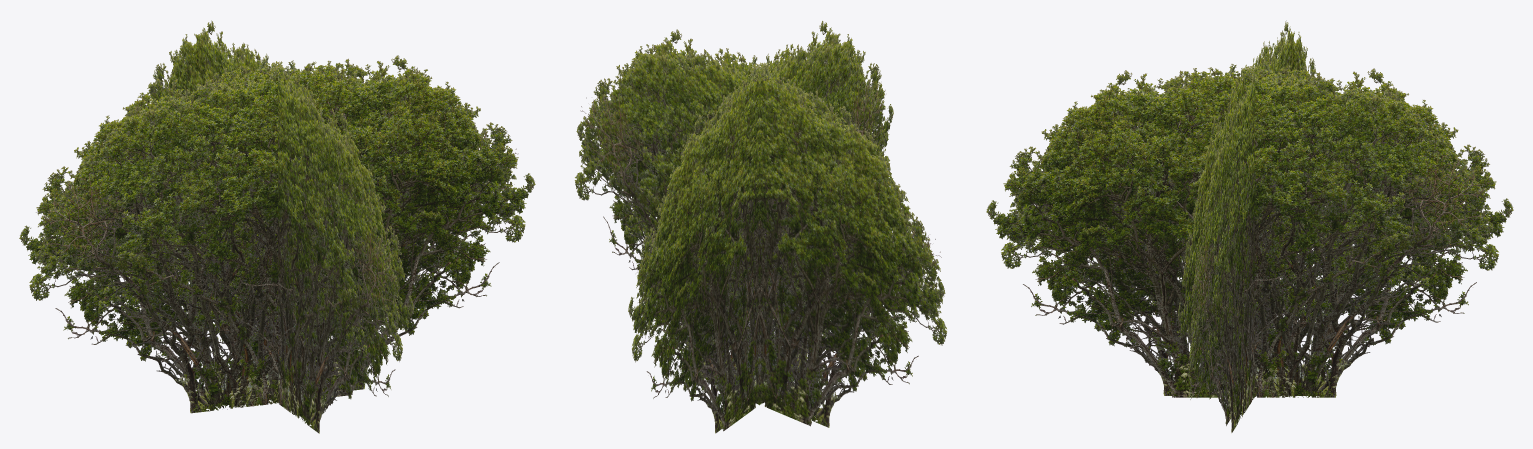
Rendered from SM_Bush_Leaves_02.fbx.
3 renders of one model, left to right at view 1: azimuth 30°, elevation 25°; view 2: azimuth 150°, elevation 25°; view 3: azimuth 270°, elevation 25°, orthographic. The views are drawn at different scales.
Parts seen in each view (by area): view 1: SM_Bush_Leaves_02; view 2: SM_Bush_Leaves_02; view 3: SM_Bush_Leaves_02.
Part boxes in pixels (x1,y1,x2,y2): SM_Bush_Leaves_02: [19, 20, 535, 433]; SM_Bush_Leaves_02: [574, 21, 946, 433]; SM_Bush_Leaves_02: [986, 20, 1513, 432].
Bounding box in the file's own units: 397 × 292 × 419.
